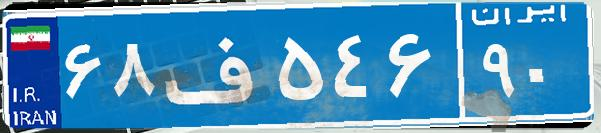0: (525, 38, 570, 115)
4: (330, 28, 385, 110)
5: (273, 28, 330, 110)
6: (385, 28, 445, 110), (57, 26, 110, 107)
8: (110, 28, 158, 105)
9: (475, 38, 525, 113)
ف: (158, 15, 273, 115)
